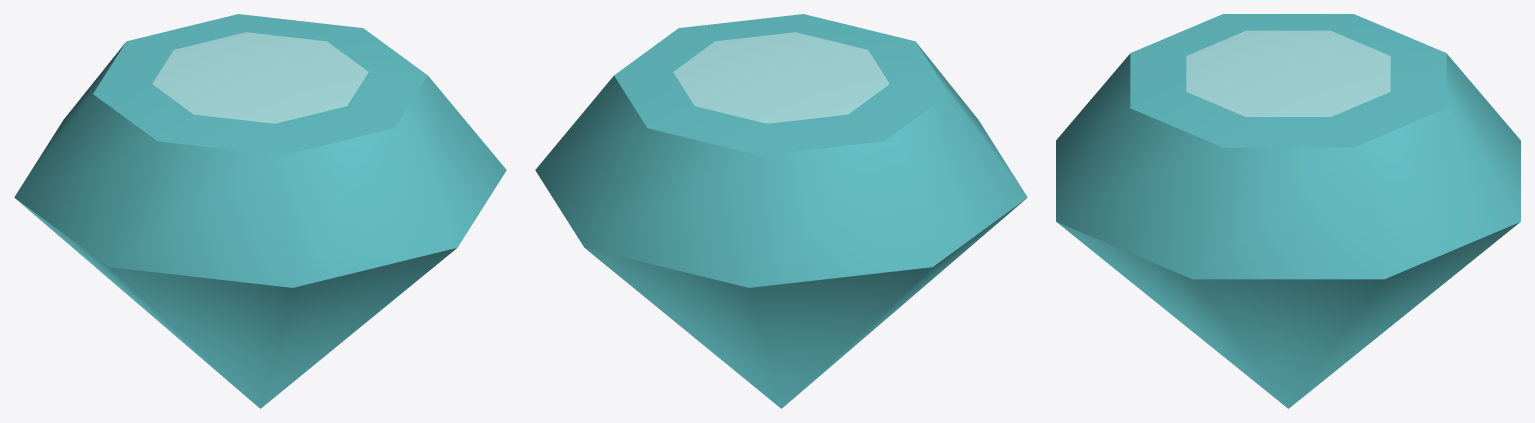
The model's file is gem.glb.
3 renders of one model, left to right at view 1: azimuth 30°, elevation 25°; view 2: azimuth 150°, elevation 25°; view 3: azimuth 270°, elevation 25°, orthographic.
Parts seen in each view (by area): view 1: gem; view 2: gem; view 3: gem.
Part boxes in pixels (x1,y1,x2,y2): gem: [14, 14, 506, 408]; gem: [535, 14, 1027, 408]; gem: [1056, 14, 1520, 408].
Size of the model in its own units: 0.0924 by 0.0747 by 0.0924.
